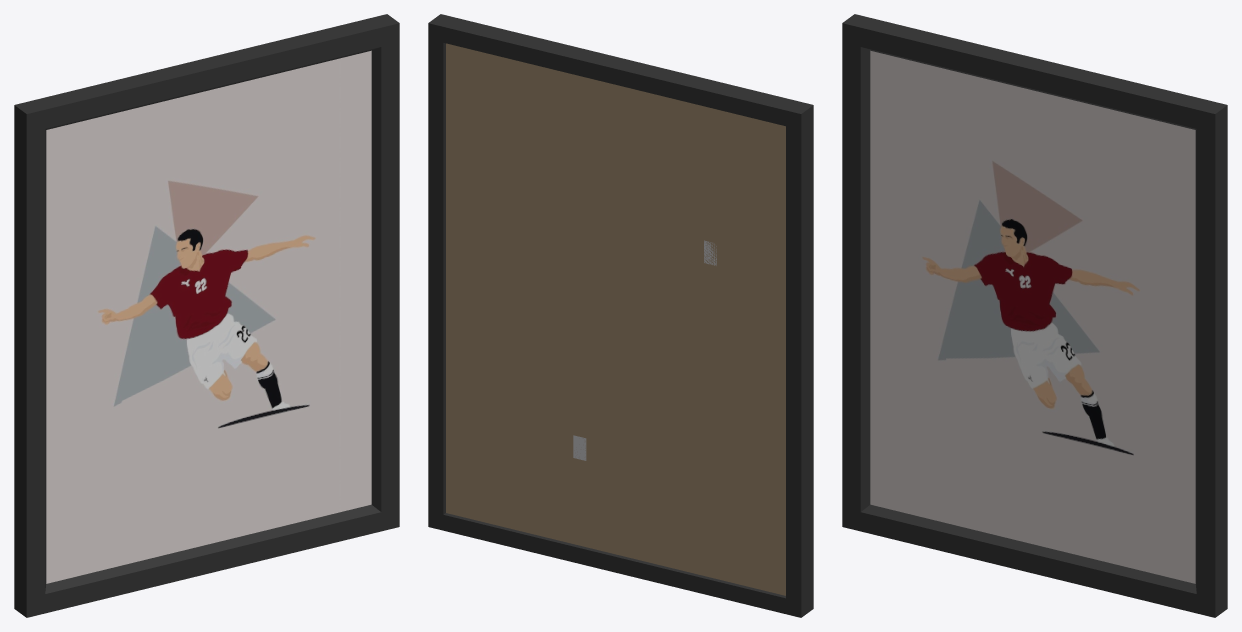
File: ahly-22-triangles-30x40.glb
The picture shows the model from 3 angles, left to right: view 1: azimuth 30°, elevation 25°; view 2: azimuth 150°, elevation 25°; view 3: azimuth 330°, elevation 25°; orthographic projection.
Parts seen in each view (by area): view 1: LAWHA 30x40; view 2: LAWHA 30x40; view 3: LAWHA 30x40.
Boxes of the visible parts, x1,y1,x2,y2 form: LAWHA 30x40: (14, 14, 399, 617); LAWHA 30x40: (428, 14, 813, 617); LAWHA 30x40: (842, 14, 1227, 617).
Bounding box in the file's own units: 0.344 × 0.444 × 0.02.
Materials: 4 (1 with a texture image).
